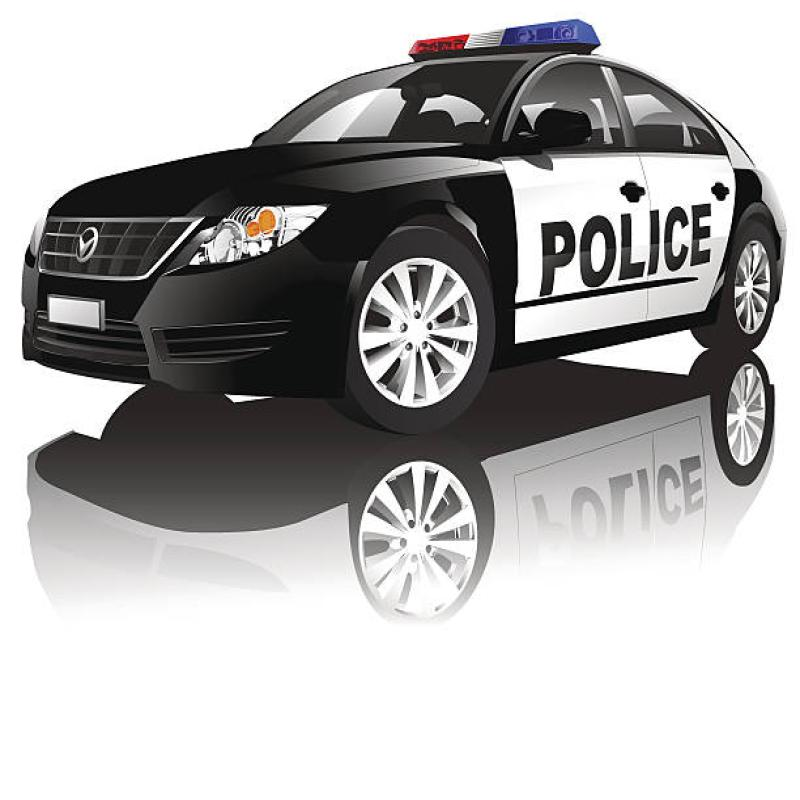AmbulanceSiren: (380, 20, 604, 66)
